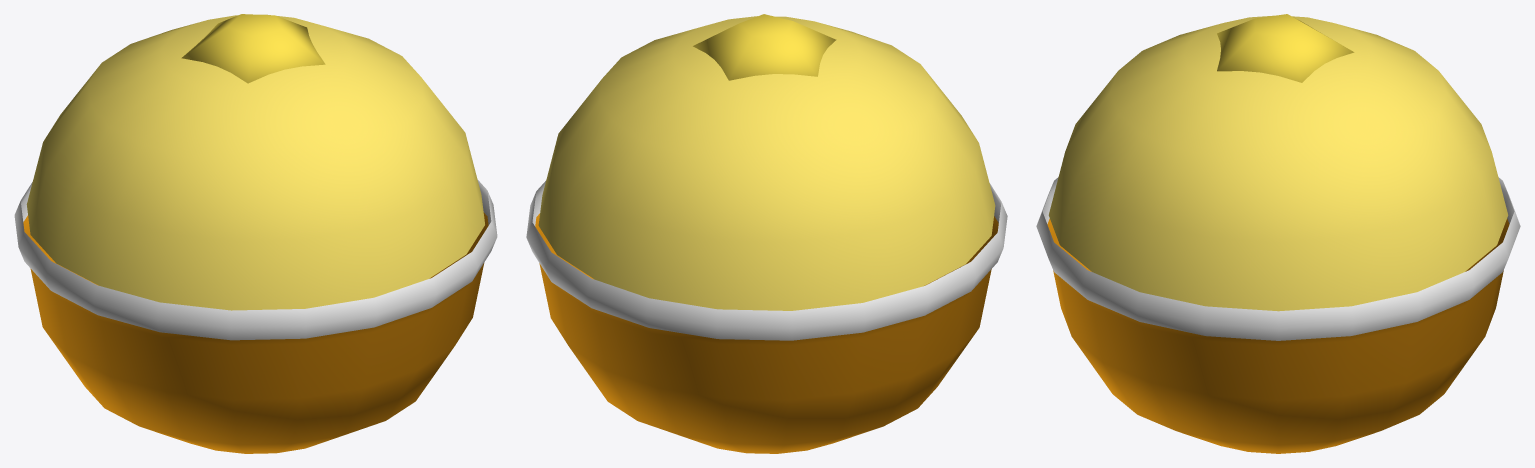
Rendered from w2_07_golden_gacha.glb.
3 views of the same model, side by side, from view 1: azimuth 30°, elevation 25°; view 2: azimuth 150°, elevation 25°; view 3: azimuth 270°, elevation 25° (orthographic).
Parts seen in each view (by area): view 1: W2_07_GoldenGacha; view 2: W2_07_GoldenGacha; view 3: W2_07_GoldenGacha.
Boxes of the visible parts, bbox=[...] form: W2_07_GoldenGacha: bbox=[14, 14, 497, 453]; W2_07_GoldenGacha: bbox=[526, 14, 1007, 453]; W2_07_GoldenGacha: bbox=[1036, 14, 1520, 453].
Bounding box in the file's own units: 2.36 × 2.14 × 2.36.
Materials: 1 (1 with a texture image).
